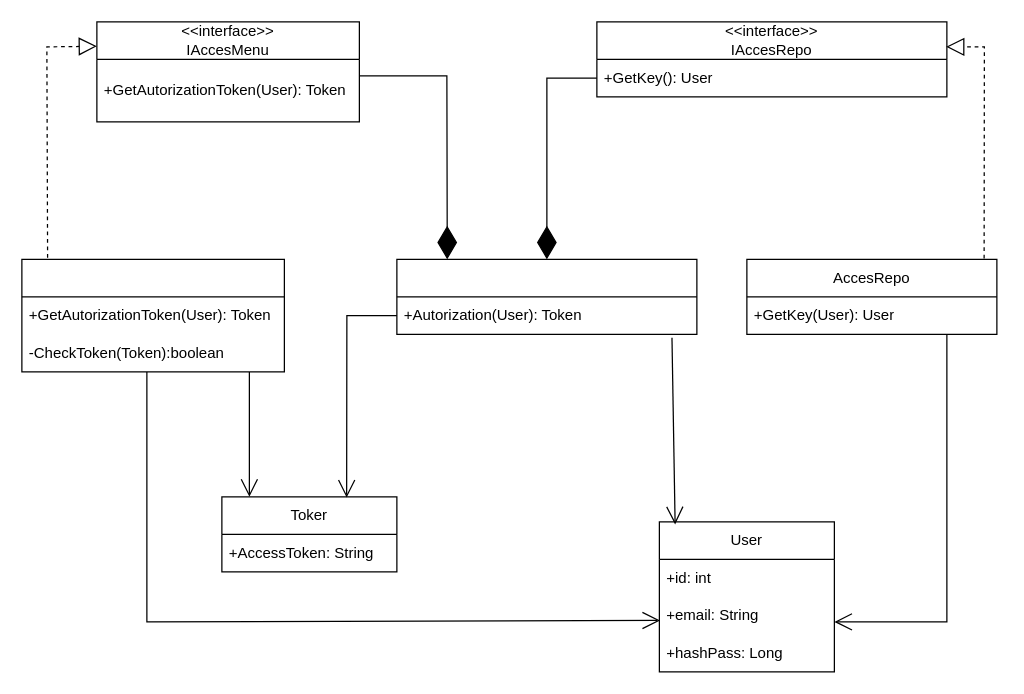
Some shapes in this 1024 by 694 pixel diagram are drawn without their labels. Here are the shapes that lost their labels. From the top down, the box of each, then its label:
(21, 258, 284, 372): AccesMenu
(396, 258, 697, 334): AccesComp
